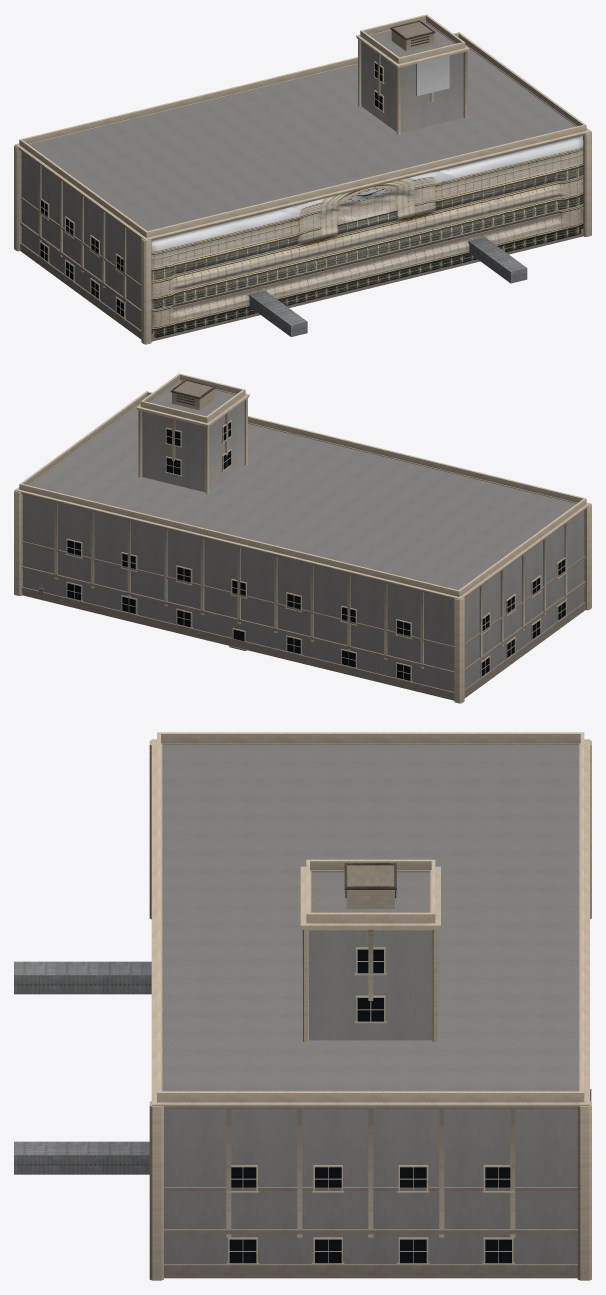
The model's file is ferry-terminal_lod0.gltf.
The picture shows the model from 3 angles, top to bottom: view 1: azimuth 30°, elevation 25°; view 2: azimuth 150°, elevation 25°; view 3: azimuth 270°, elevation 25°; orthographic projection. The views are drawn at different scales.
Parts seen in each view (by area): view 1: ferry-terminal_tier0, ferry-terminal_front, ferry-terminal__v4_stone_detail, ferry-terminal_tier1, ferry-terminal__gangway_b, ferry-terminal__gangway_a, ferry-terminal_fen_04-limestone_0, ferry-terminal__clock, ferry-terminal_fen_07-glass-curtain-blue_1_t; view 2: ferry-terminal_tier0, ferry-terminal__v4_stone_detail, ferry-terminal_tier1, ferry-terminal_fen_07-glass-curtain-blue_1_t, ferry-terminal_fen_04-limestone_0; view 3: ferry-terminal_tier0, ferry-terminal__v4_stone_detail, ferry-terminal_tier1, ferry-terminal_fen_07-glass-curtain-blue_1_t, ferry-terminal__gangway_a, ferry-terminal__gangway_b, ferry-terminal_fen_04-limestone_0.
Boxes of the visible parts, x1,y1,x2,y2 form: ferry-terminal_tier0: [21, 49, 575, 329]; ferry-terminal_front: [151, 136, 583, 337]; ferry-terminal__v4_stone_detail: [14, 14, 591, 344]; ferry-terminal_tier1: [361, 22, 463, 133]; ferry-terminal__gangway_b: [468, 237, 527, 283]; ferry-terminal__gangway_a: [248, 290, 307, 336]; ferry-terminal_fen_04-limestone_0: [39, 61, 384, 319]; ferry-terminal__clock: [416, 55, 449, 96]; ferry-terminal_fen_07-glass-curtain-blue_1_t: [40, 63, 382, 317]; ferry-terminal_tier0: [23, 408, 584, 691]; ferry-terminal__v4_stone_detail: [14, 373, 591, 703]; ferry-terminal_tier1: [142, 381, 244, 492]; ferry-terminal_fen_07-glass-curtain-blue_1_t: [67, 422, 565, 680]; ferry-terminal_fen_04-limestone_0: [65, 420, 566, 682]; ferry-terminal_tier0: [162, 745, 579, 1263]; ferry-terminal__v4_stone_detail: [149, 732, 591, 1280]; ferry-terminal_tier1: [309, 872, 432, 1040]; ferry-terminal_fen_07-glass-curtain-blue_1_t: [229, 949, 511, 1263]; ferry-terminal__gangway_a: [14, 961, 151, 994]; ferry-terminal__gangway_b: [14, 1141, 149, 1174]; ferry-terminal_fen_04-limestone_0: [227, 947, 514, 1264].
Bounding box in the file's own units: 81.53 × 32.32 × 54.26.
